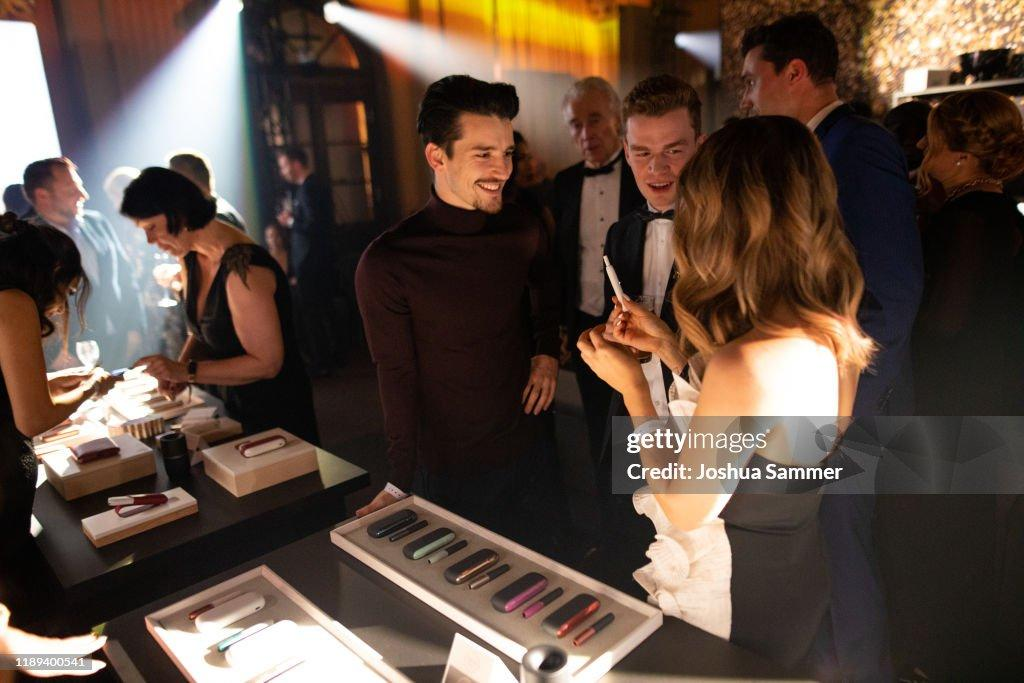iqos: (603, 255, 628, 313)
